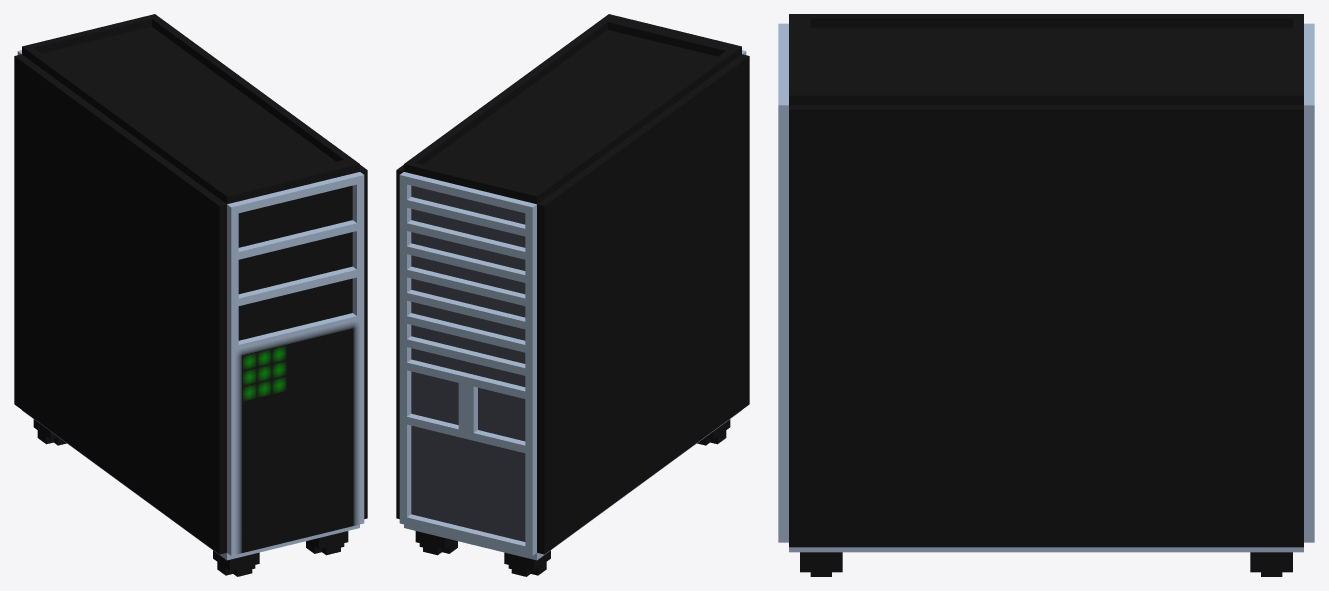
The model's file is MediumObject_DesktopPC.fbx.
The picture shows the model from 3 angles, left to right: view 1: azimuth 30°, elevation 25°; view 2: azimuth 150°, elevation 25°; view 3: azimuth 270°, elevation 25°; orthographic projection. The views are drawn at different scales.
Parts seen in each view (by area): view 1: DesktopPC; view 2: DesktopPC; view 3: DesktopPC.
Boxes of the visible parts, x1,y1,x2,y2 form: DesktopPC: (14, 14, 367, 576); DesktopPC: (396, 14, 749, 576); DesktopPC: (778, 14, 1314, 576).
Size of the model in its own units: 20 by 50 by 50.
